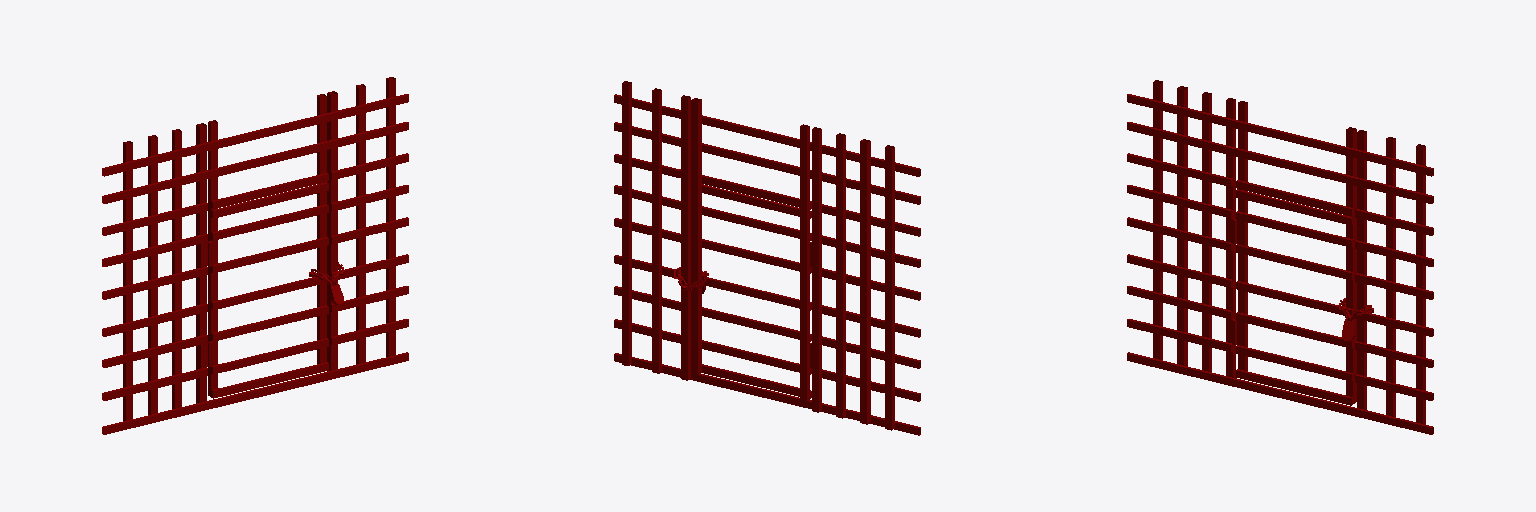
File: Bars.obj
The picture shows the model from 3 angles: view 1: azimuth 30°, elevation 25°; view 2: azimuth 150°, elevation 25°; view 3: azimuth 330°, elevation 25°; orthographic projection.
Visible parts, largest first — view 1: g Box008_Box008; view 2: g Box008_Box008; view 3: g Box008_Box008.
Part boxes in pixels (x1,y1,x2,y2): g Box008_Box008: (102, 77, 408, 434); g Box008_Box008: (614, 81, 920, 435); g Box008_Box008: (1127, 80, 1433, 434).
Size of the model in its own units: 112 by 99.6 by 11.88.